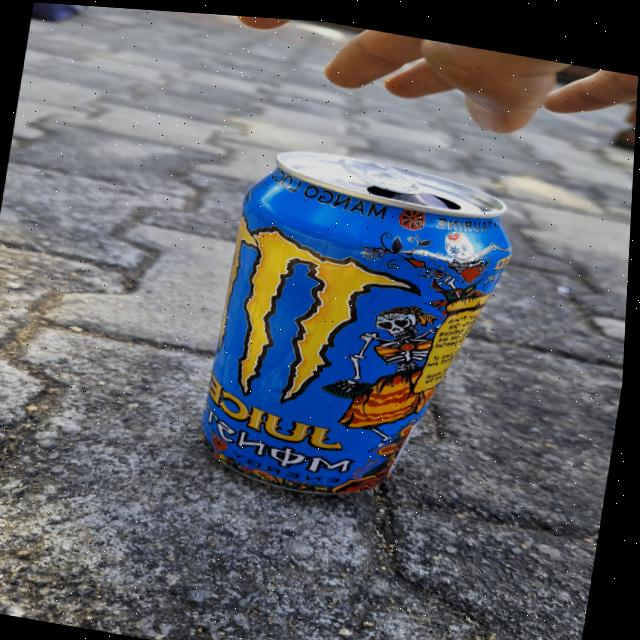Monster Mango Loco: (169, 130, 508, 511)
